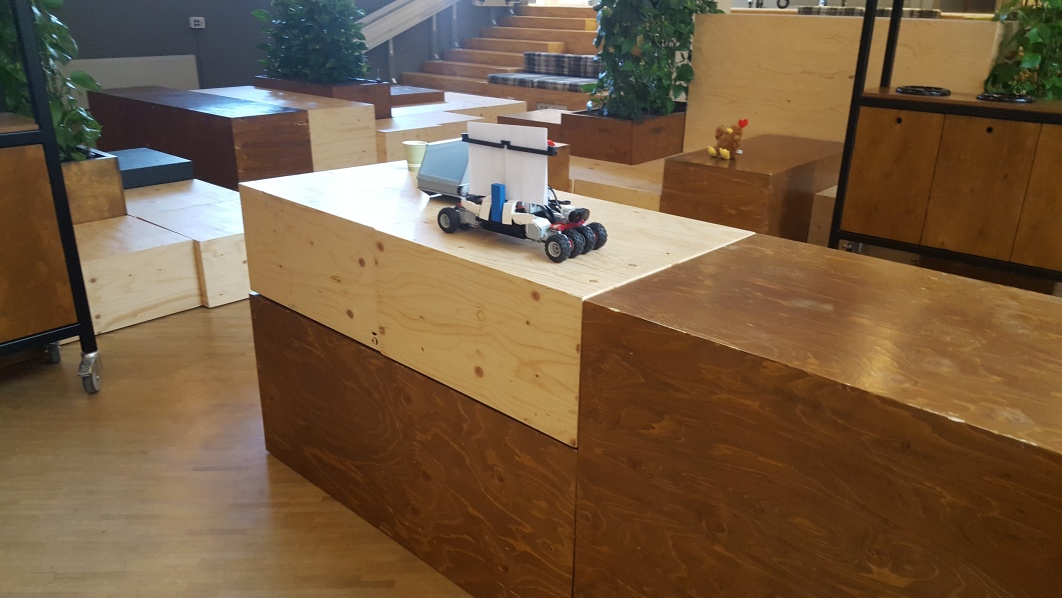beam: (490, 179, 505, 224)
chicken: (705, 119, 752, 161)
cup: (402, 136, 424, 172)
tray: (416, 139, 468, 199)
